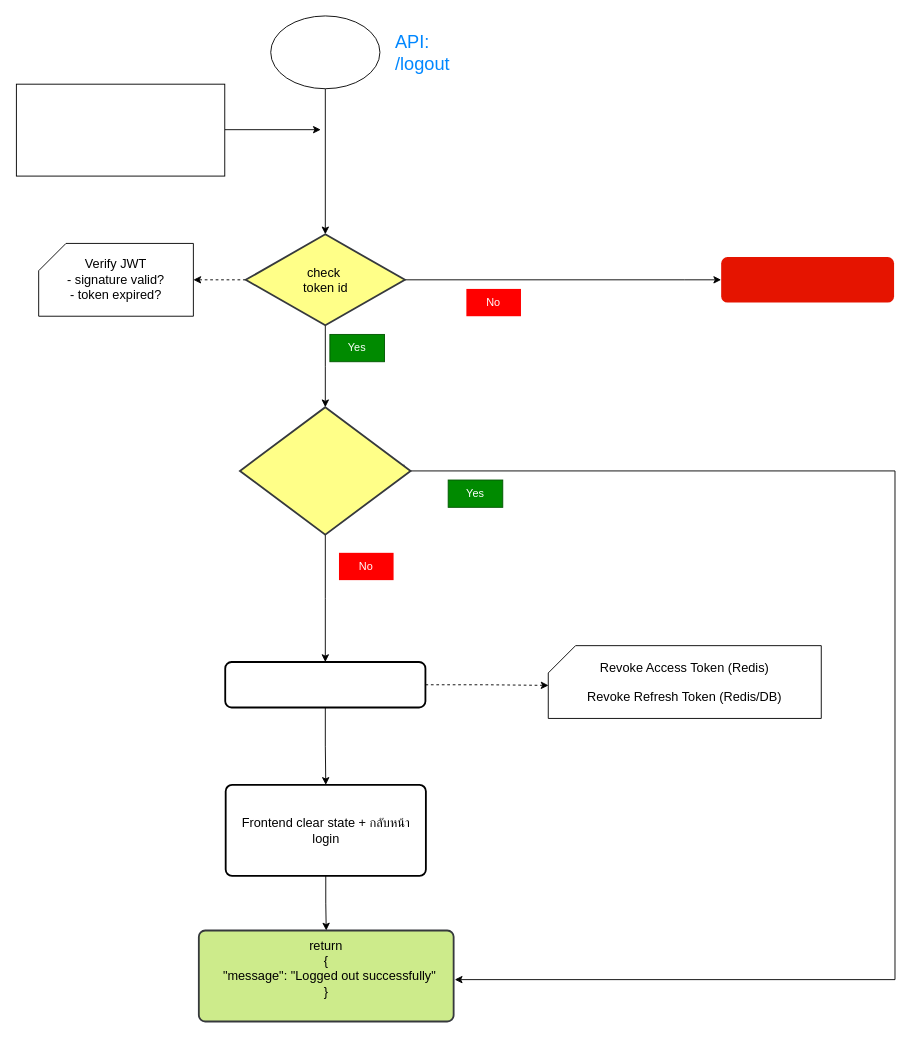
This 918x1038 diagram has some shape labels left out. The centre of each missing label's shape, as x and y in pixels:
(Frontend send) method: POST Header: Bearer <Access Token>: (120,129)
return {error 401}: (807,279)
start (user กด logout): (325,52)
Token already revoked?: (325,470)
เก็บ token ลง Blacklist (Redis): (325,684)
